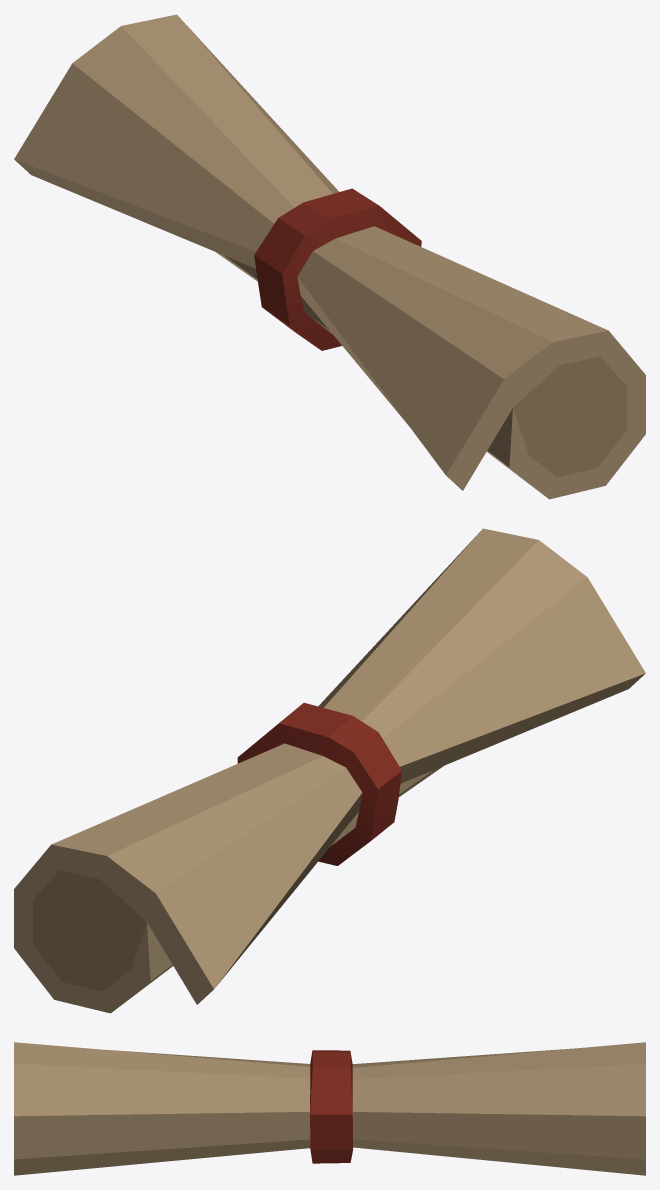
Rendered from SM_Item_Map_Attachment_01.glb.
3 views of the same model, one above another, from view 1: azimuth 30°, elevation 25°; view 2: azimuth 150°, elevation 25°; view 3: azimuth 270°, elevation 25° (orthographic). The views are drawn at different scales.
Visible parts, largest first — view 1: SM_Item_Map_Attachment_01; view 2: SM_Item_Map_Attachment_01; view 3: SM_Item_Map_Attachment_01.
Boxes of the visible parts, <box> form: SM_Item_Map_Attachment_01: <box>14,14,645,499</box>; SM_Item_Map_Attachment_01: <box>14,528,645,1013</box>; SM_Item_Map_Attachment_01: <box>14,1042,645,1175</box>.
Bounding box in the file's own units: 0.00108 × 0.000804 × 0.00402.
